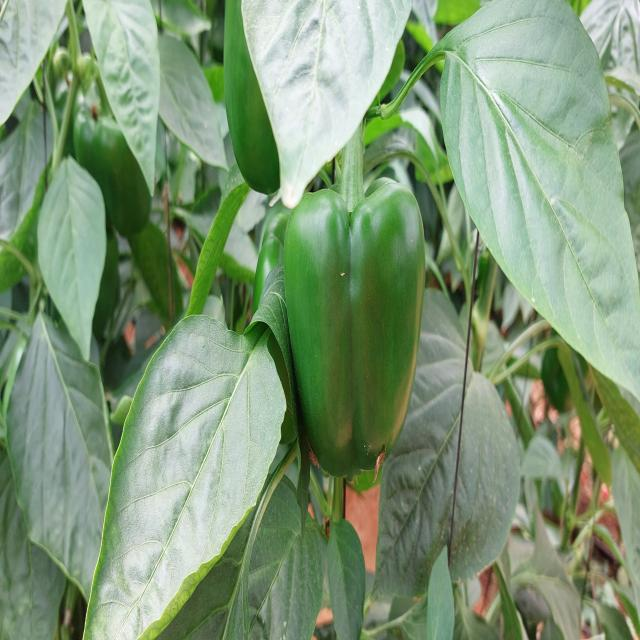Green--Not-ready-to-harvest: (273, 177, 430, 468), (72, 38, 161, 256), (227, 0, 323, 181)
